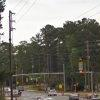Tree: (24, 13, 100, 77)
